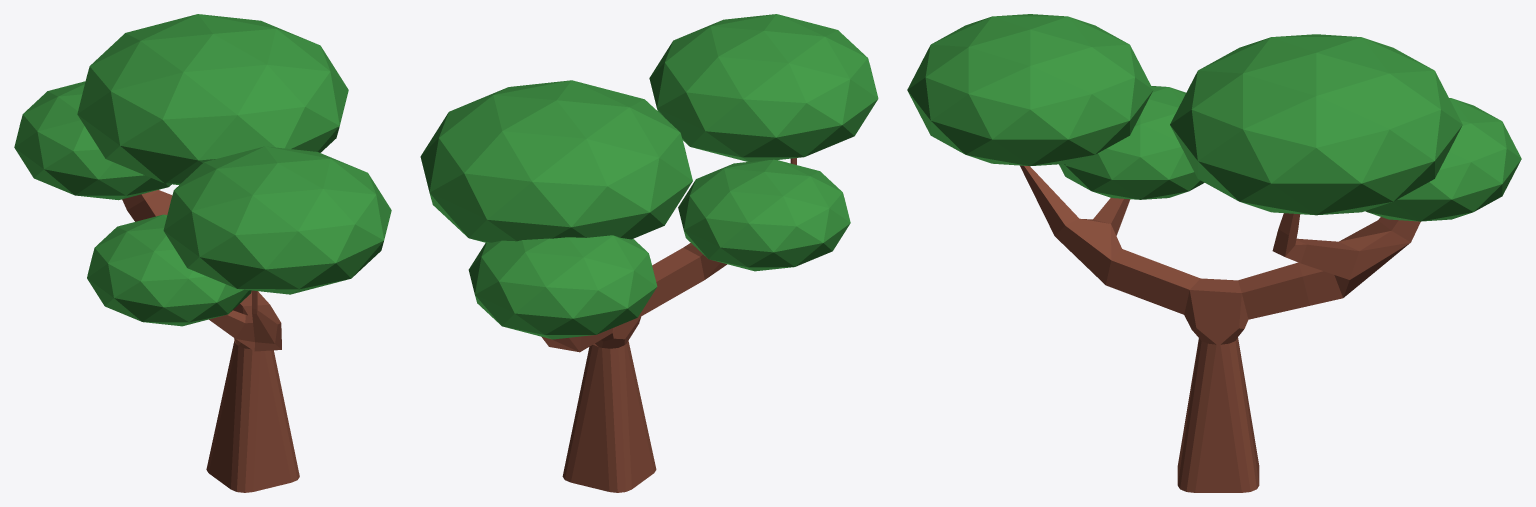
File: TREE_01.fbx
3 views of the same model, side by side, from view 1: azimuth 30°, elevation 25°; view 2: azimuth 150°, elevation 25°; view 3: azimuth 270°, elevation 25° (orthographic). The views are drawn at different scales.
Visible parts, largest first — view 1: Icosphere.003, Icosphere, Plane, Icosphere.001, Icosphere.002; view 2: Icosphere.003, Icosphere, Icosphere.002, Icosphere.001, Plane; view 3: Icosphere.003, Plane, Icosphere, Icosphere.002, Icosphere.001.
Boxes of the visible parts, x1,y1,x2,y2 form: Icosphere.003: (77, 14, 348, 184); Icosphere: (163, 146, 391, 294); Plane: (122, 190, 299, 492); Icosphere.001: (87, 214, 251, 326); Icosphere.002: (14, 81, 171, 200); Icosphere.003: (420, 80, 692, 242); Icosphere: (649, 14, 878, 161); Icosphere.002: (468, 235, 657, 339); Icosphere.001: (678, 159, 850, 271); Plane: (541, 158, 796, 492); Icosphere.003: (1170, 34, 1462, 215); Plane: (1020, 165, 1420, 492); Icosphere: (907, 14, 1153, 166); Icosphere.002: (1365, 98, 1521, 221); Icosphere.001: (1059, 86, 1204, 199).
Size of the model in its own units: 182 by 226 by 296.
